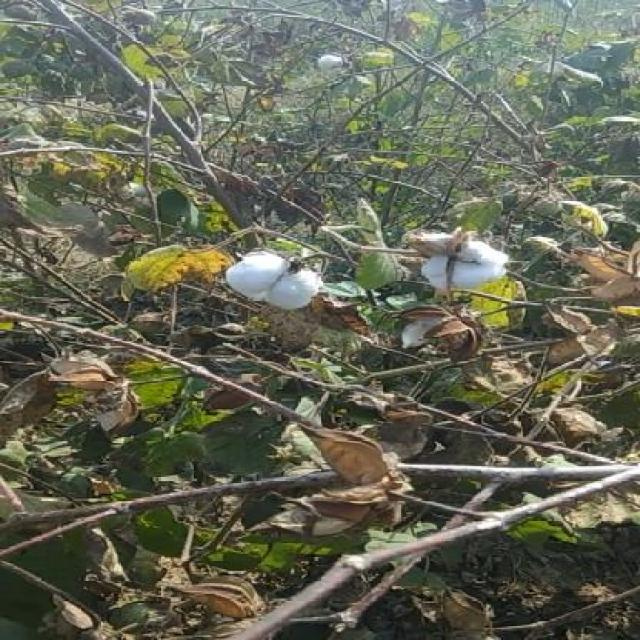cotton_ready: (384, 224, 534, 304), (198, 248, 340, 332)
